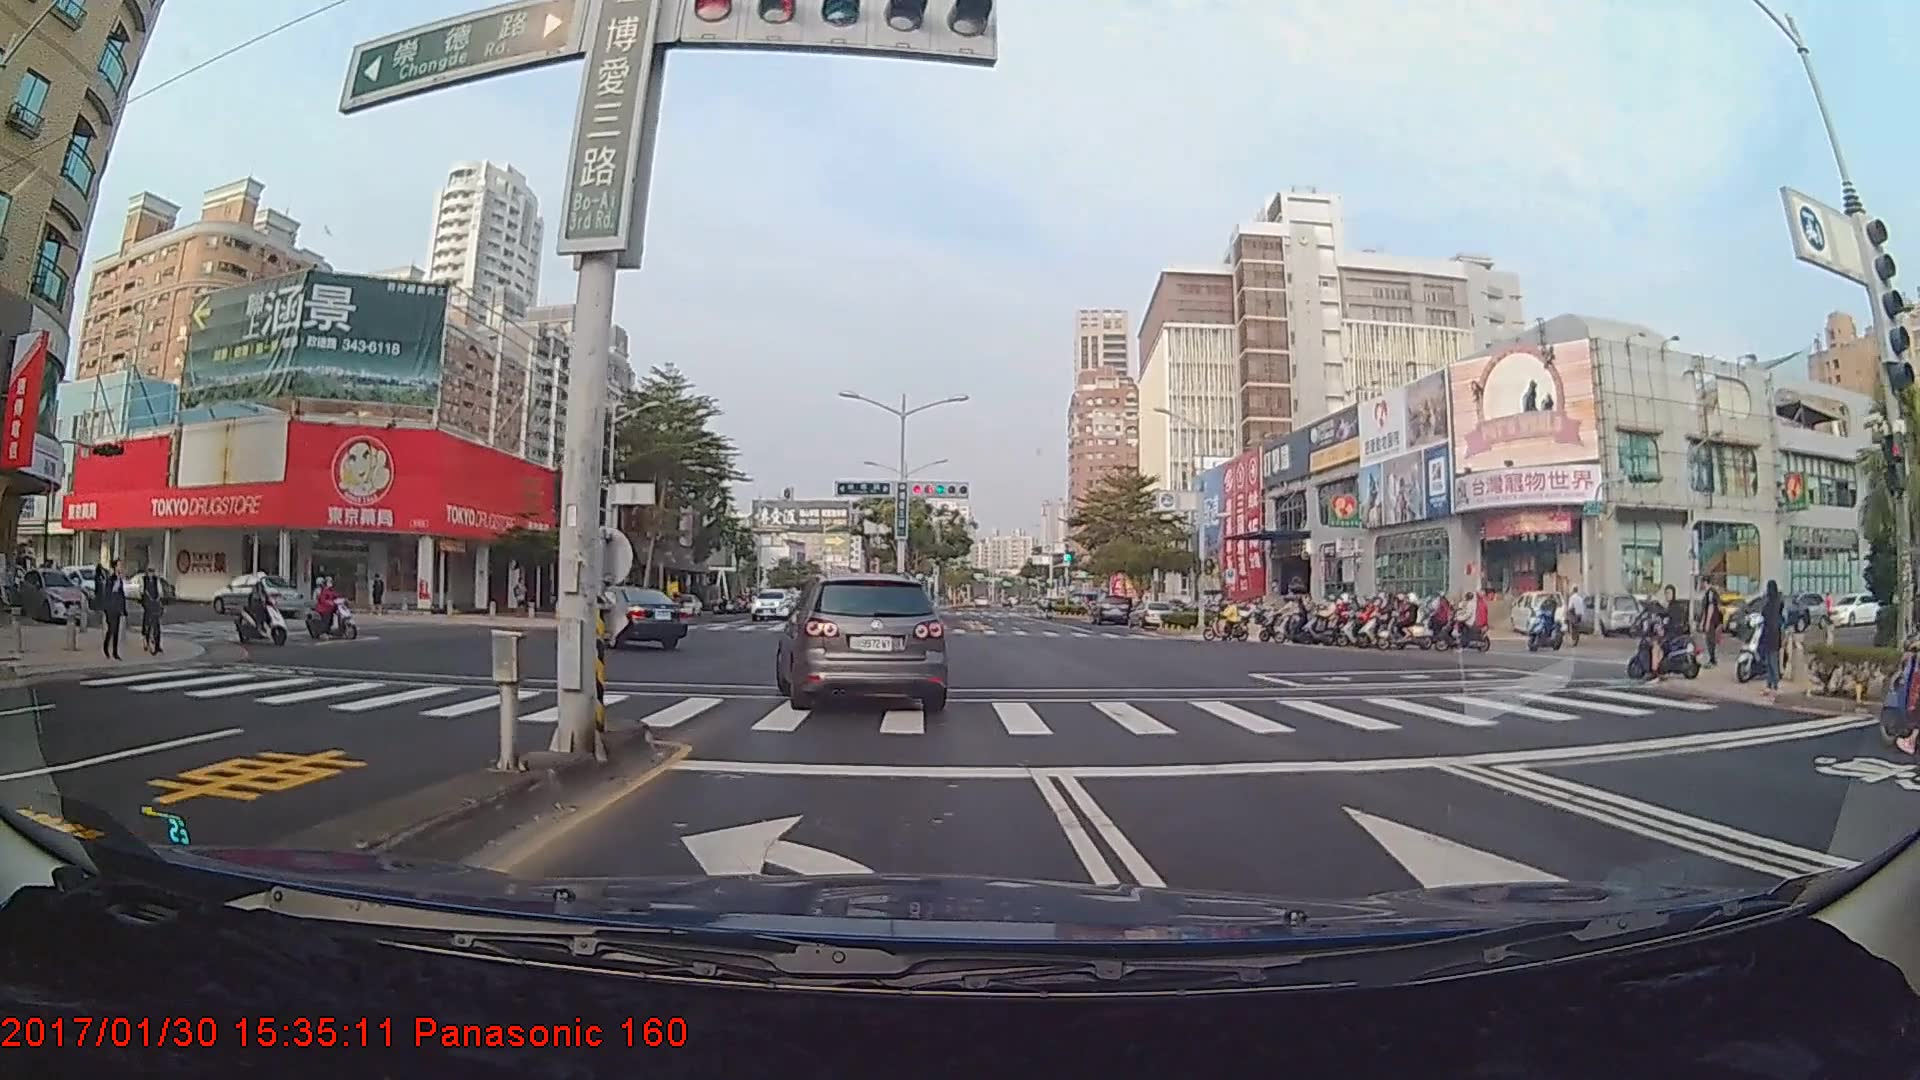pedestrian: (1754, 573, 1794, 701), (101, 561, 129, 665), (1700, 576, 1727, 671)
rider: (1626, 588, 1710, 683), (1728, 582, 1796, 689), (229, 569, 300, 652), (303, 577, 366, 642), (1436, 592, 1493, 659), (133, 563, 172, 661), (1522, 596, 1574, 652), (1256, 594, 1310, 643), (1393, 594, 1439, 651), (1362, 594, 1409, 644), (1204, 601, 1258, 644), (1331, 599, 1375, 647), (1349, 600, 1390, 646)
vehicle: (773, 570, 950, 711), (561, 587, 685, 652), (208, 574, 298, 616), (1090, 594, 1131, 626)
